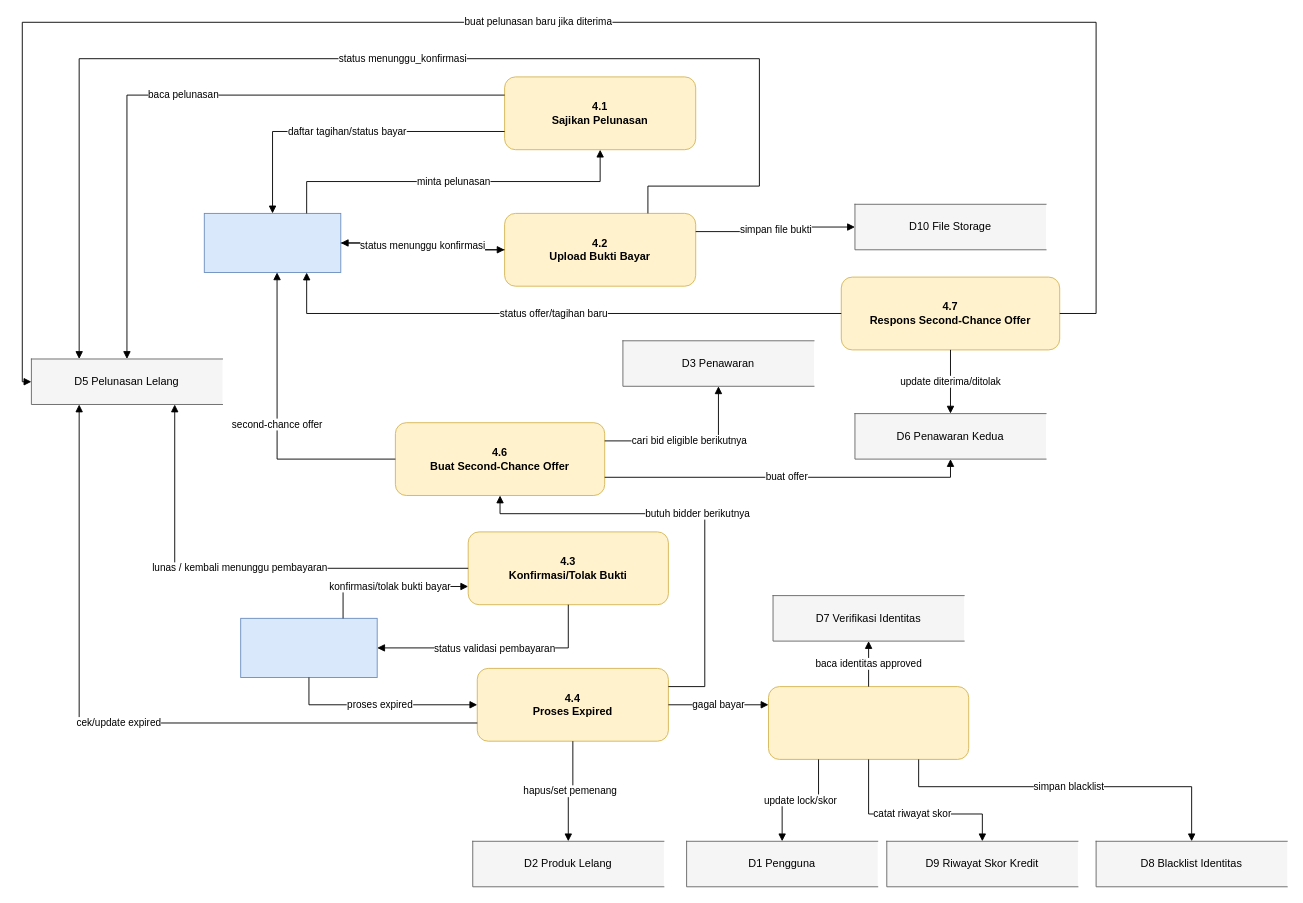
This 1303x903 diagram has some shape labels left out. Here are the shapes that lost their labels. From the top down, the centre of each, then its label:
[272,242]: Customer
[308,647]: Admin
[868,722]: 4.5 Update Skor & Blacklist
